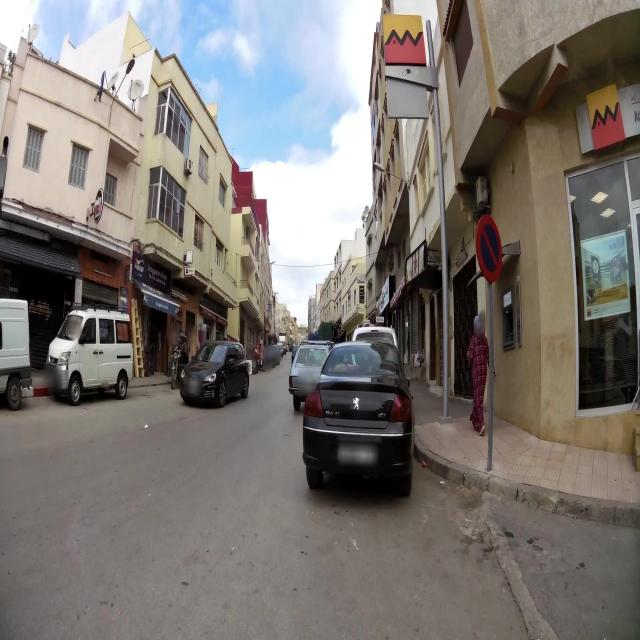forb_stopping: (474, 212, 503, 285)
